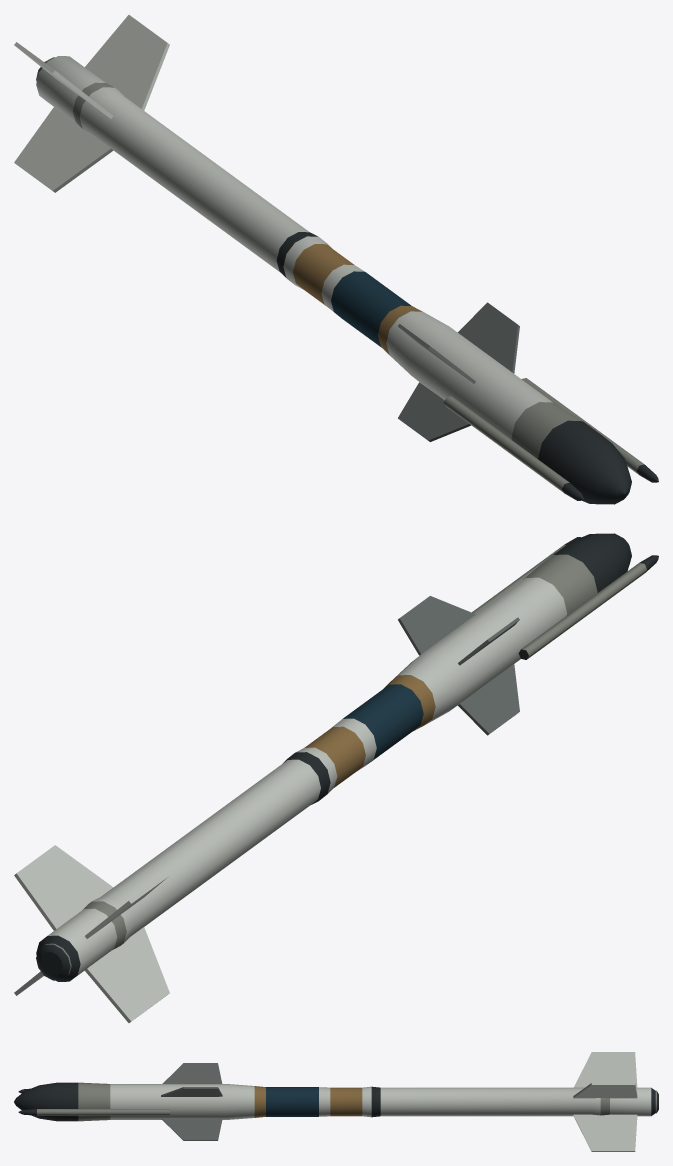
File: pd_ram.glb
The picture shows the model from 3 angles, top to bottom: view 1: azimuth 30°, elevation 25°; view 2: azimuth 150°, elevation 25°; view 3: azimuth 270°, elevation 25°; orthographic projection. The views are drawn at different scales.
Parts seen in each view (by area): view 1: PD_RAM; view 2: PD_RAM; view 3: PD_RAM.
Part boxes in pixels (box(x1,y1,x2,y2)): PD_RAM: box(14, 15, 658, 504); PD_RAM: box(14, 533, 658, 1022); PD_RAM: box(14, 1052, 658, 1151).
Bounding box in the file's own units: 0.3323 × 0.3323 × 2.81.
